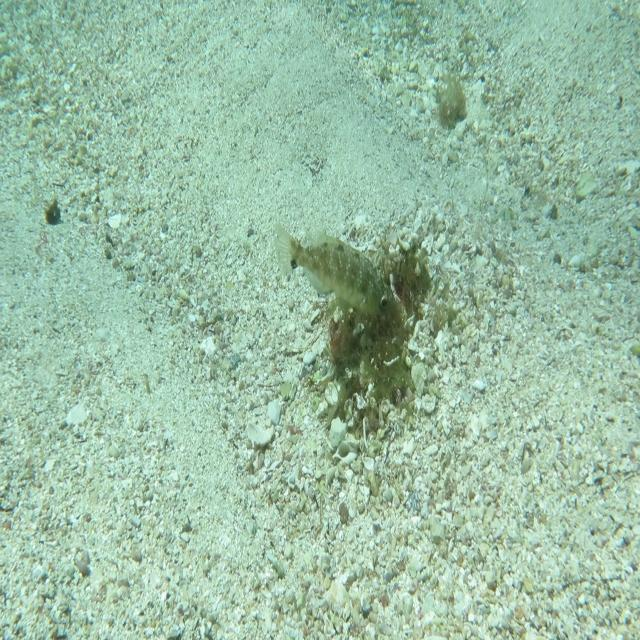NIP_CORE: (272, 219, 394, 328)
nest: (320, 236, 436, 438)
vegetation: (436, 77, 468, 136), (46, 195, 65, 226)
